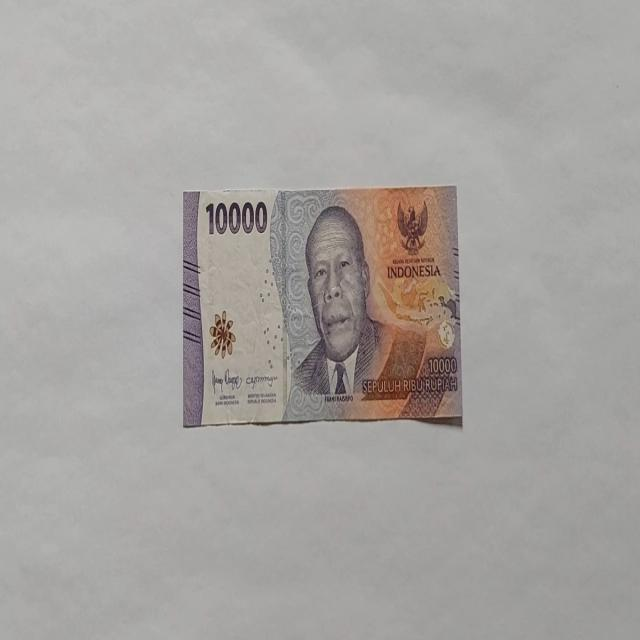sepuluh ribu rupiah: (182, 184, 462, 428), (280, 202, 426, 418)
